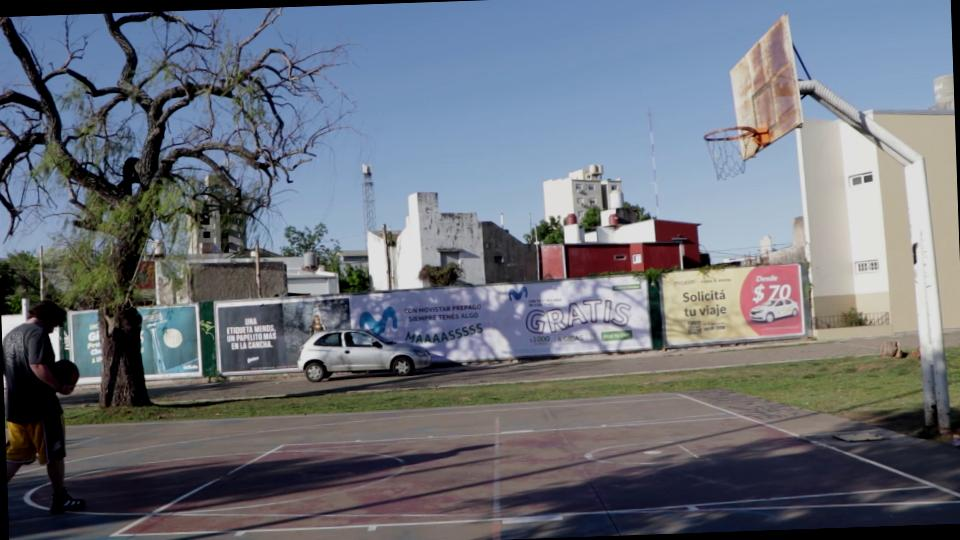hoop: (702, 124, 775, 148)
